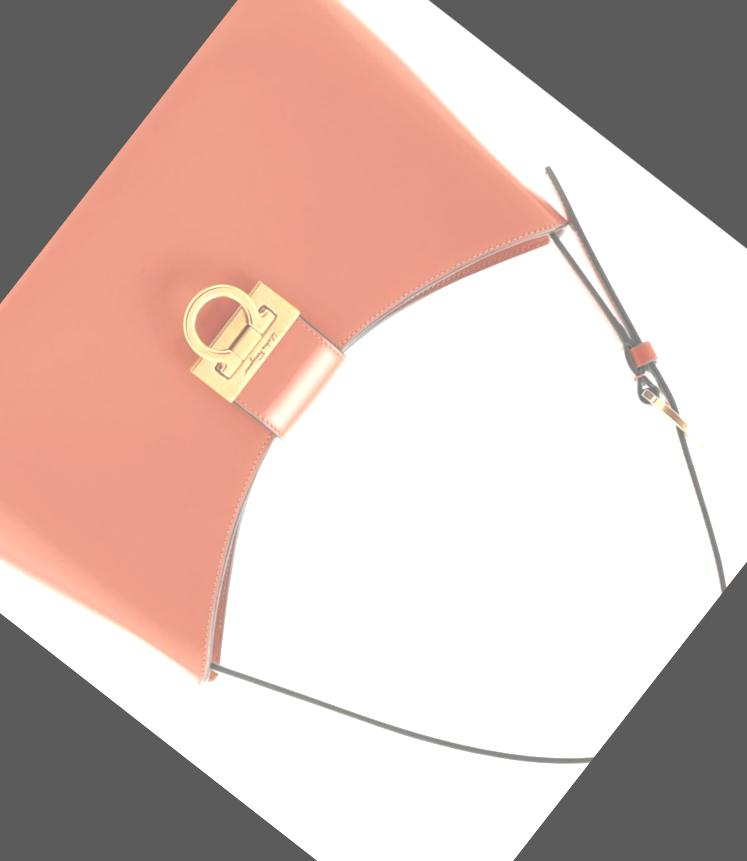FERRAGAMO: (112, 214, 338, 449)
